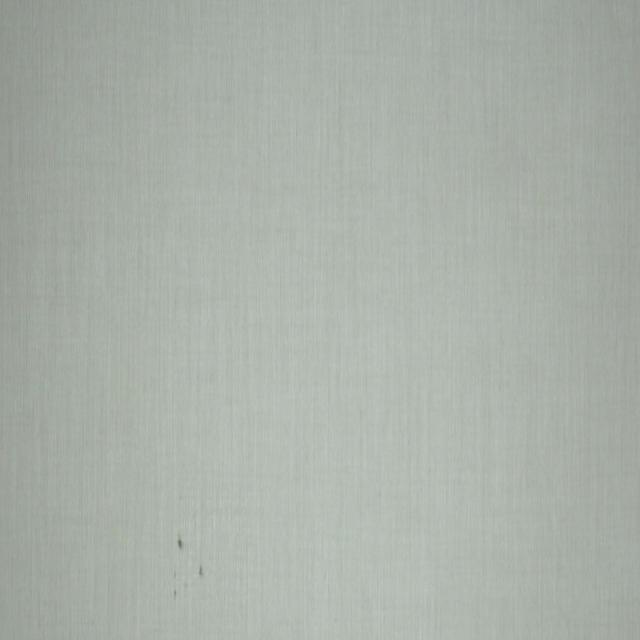dirty: (177, 538, 184, 552), (198, 564, 204, 577), (172, 589, 178, 600)
